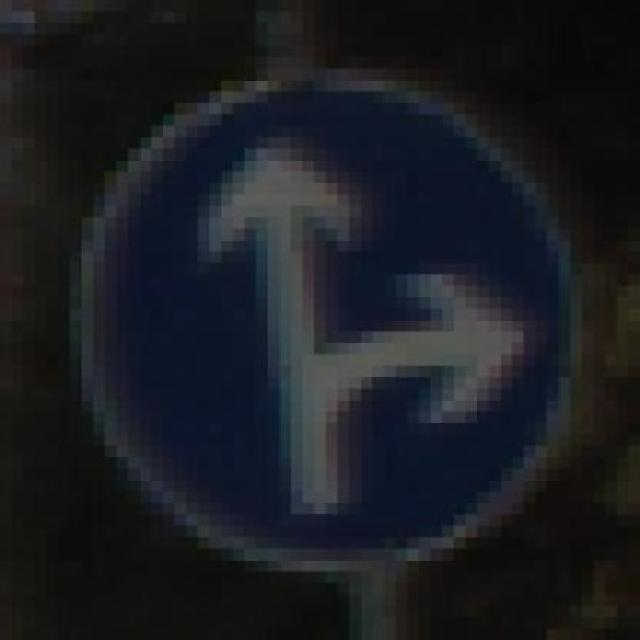Go Straight or Turn Right: (83, 49, 583, 586)
